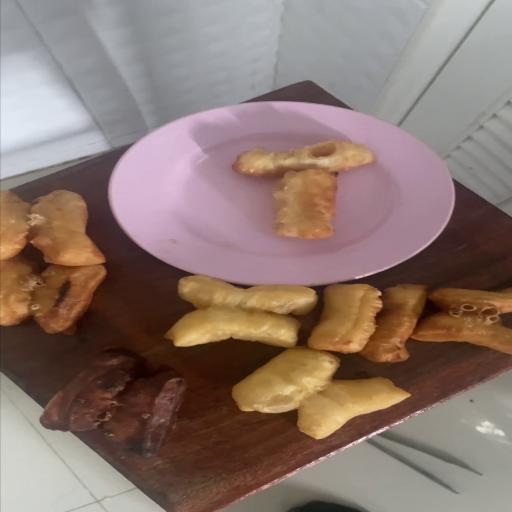street_burnt_defect: (40, 349, 186, 457), (410, 288, 512, 355), (232, 139, 373, 177), (28, 266, 99, 333)
street_golden_good: (165, 275, 426, 439)
